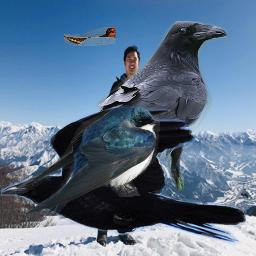Crow: (1, 107, 248, 245), (52, 21, 227, 191)
Swallow: (7, 105, 160, 216), (64, 27, 116, 46)
